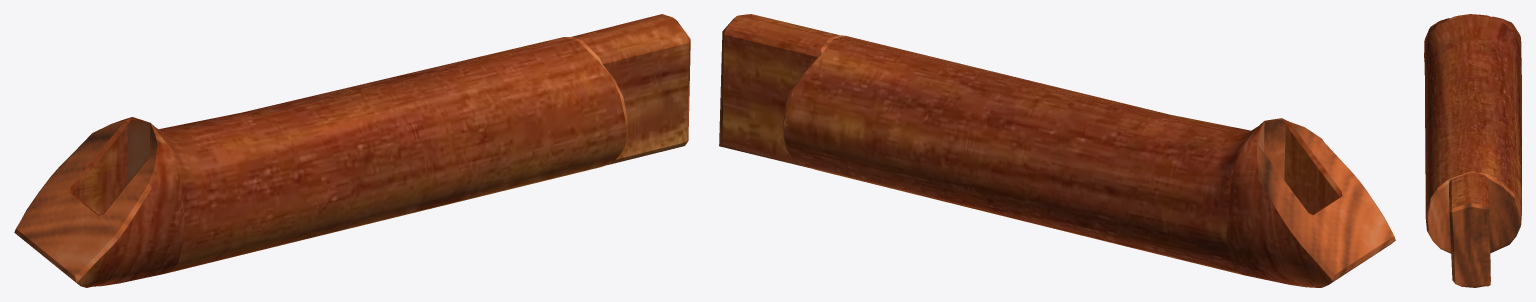
File: ytsy_J_henggan_019.FBX
3 renders of one model, left to right at view 1: azimuth 30°, elevation 25°; view 2: azimuth 150°, elevation 25°; view 3: azimuth 270°, elevation 25°, orthographic. The views are drawn at different scales.
Parts seen in each view (by area): view 1: ytsy_J_henggan_019; view 2: ytsy_J_henggan_019; view 3: ytsy_J_henggan_019.
Part boxes in pixels (x1,y1,x2,y2): ytsy_J_henggan_019: (14,14,690,287); ytsy_J_henggan_019: (719,14,1395,287); ytsy_J_henggan_019: (1424,14,1521,287).
Size of the model in its own units: 10.14 by 2.29 by 2.01.
